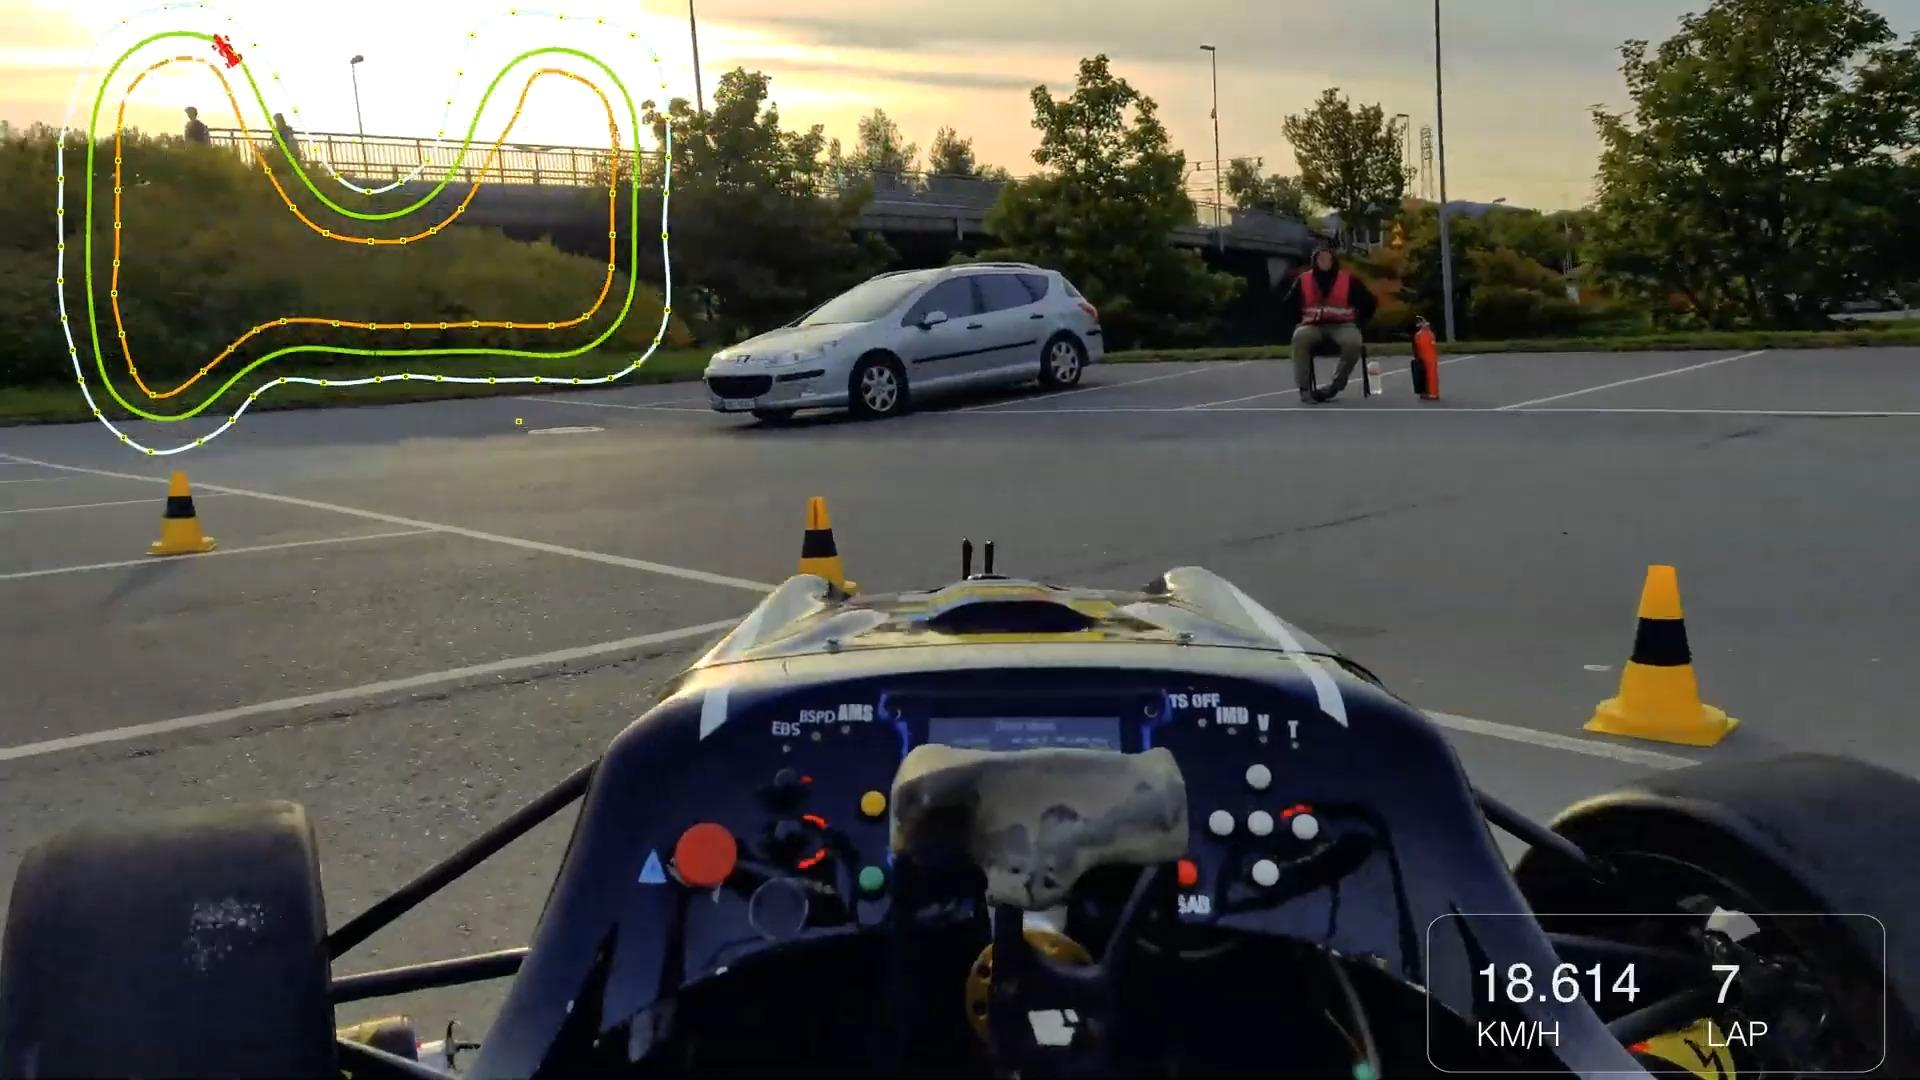yellow_cone: (1577, 553, 1753, 756), (775, 487, 864, 618), (137, 464, 214, 560)
